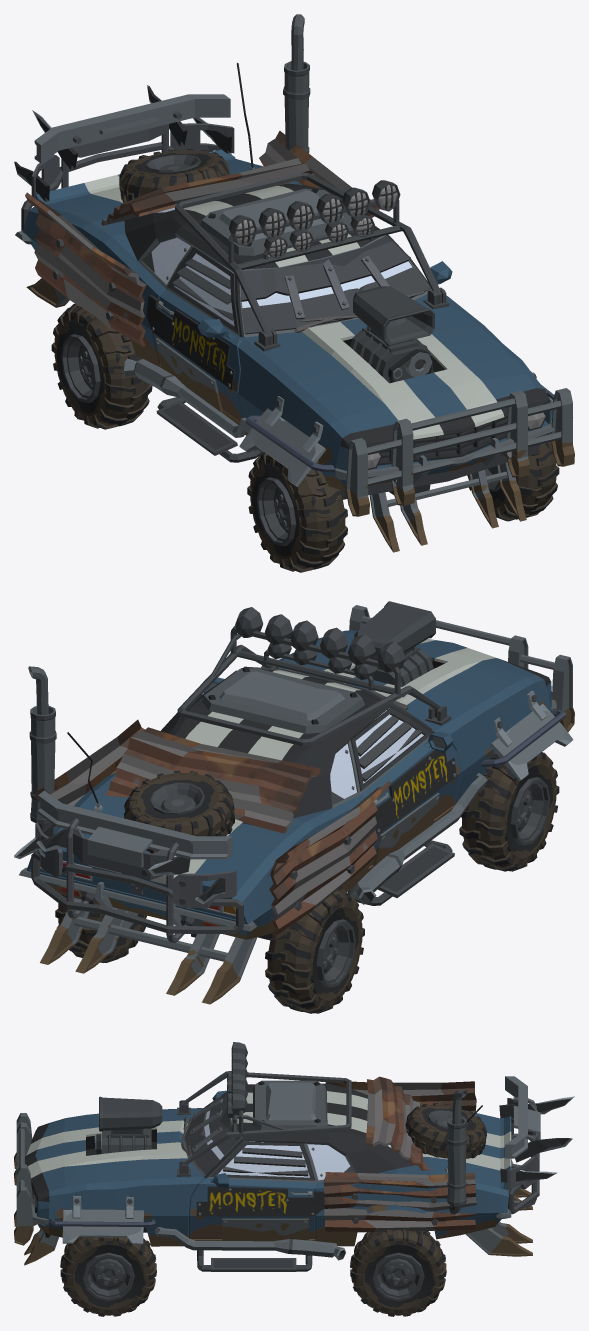
The model's file is car3.fbx.
The picture shows the model from 3 angles, top to bottom: view 1: azimuth 30°, elevation 25°; view 2: azimuth 150°, elevation 25°; view 3: azimuth 270°, elevation 25°; orthographic projection. The views are drawn at different scales.
Visible parts, largest first — view 1: SM_Veh_Muscle_01.002, SM_Veh_Muscle_Armour_01.002, SM_Veh_Muscle_Glass_Armour_01.002, SM_Veh_Attach_Bumper_07.001, SM_Veh_Muscle_Wheel_fr.002, SM_Veh_Muscle_Wheel_rr.002, SM_Veh_Attach_Plating_37.002, SM_Veh_Muscle_Block_01.002, SM_Veh_Attach_Lights_04.003, SM_Veh_Attach_Wheel_01.002, SM_Veh_Attach_Plating_37.001, SM_Veh_Muscle_Glass_01.002 (+5 smaller); view 2: SM_Veh_Muscle_01.002, SM_Veh_Muscle_Armour_01.002, SM_Veh_Attach_Bumper_07.001, SM_Veh_Attach_Plating_37.001, SM_Veh_Muscle_Wheel_rr.002, SM_Veh_Muscle_Wheel_fr.002, SM_Veh_Attach_Plating_37.002, SM_Veh_Attach_Plating_07.001, SM_Veh_Attach_Bumper_13.001, SM_Veh_Attach_Wheel_01.002, SM_Veh_Attach_Lights_04.003, SM_Veh_Muscle_Block_01.002 (+6 smaller); view 3: SM_Veh_Muscle_01.002, SM_Veh_Muscle_Armour_01.002, SM_Veh_Attach_Plating_37.003, SM_Veh_Muscle_Wheel_rl.002, SM_Veh_Muscle_Wheel_fl.002, SM_Veh_Attach_Bumper_07.001, SM_Veh_Muscle_Glass_Armour_01.002, SM_Veh_Attach_Plating_07.001, SM_Veh_Attach_Plating_37.001, SM_Veh_Muscle_Block_01.002, SM_Veh_Attach_Wheel_01.002, SM_Veh_Muscle_Glass_01.002 (+4 smaller).
Boxes of the visible parts, <box> form: SM_Veh_Muscle_01.002: <box>15,62,554,494</box>; SM_Veh_Muscle_Armour_01.002: <box>123,172,574,552</box>; SM_Veh_Muscle_Glass_Armour_01.002: <box>142,207,430,334</box>; SM_Veh_Attach_Bumper_07.001: <box>14,85,235,230</box>; SM_Veh_Muscle_Wheel_fr.002: <box>247,451,347,572</box>; SM_Veh_Muscle_Wheel_rr.002: <box>51,303,152,429</box>; SM_Veh_Attach_Plating_37.002: <box>25,192,146,346</box>; SM_Veh_Muscle_Block_01.002: <box>350,286,434,383</box>; SM_Veh_Attach_Lights_04.003: <box>228,180,400,263</box>; SM_Veh_Attach_Wheel_01.002: <box>119,149,230,202</box>; SM_Veh_Attach_Plating_37.001: <box>101,158,314,225</box>; SM_Veh_Muscle_Glass_01.002: <box>151,207,412,325</box>; SM_Veh_Muscle_01.002: <box>19,630,557,939</box>; SM_Veh_Muscle_Armour_01.002: <box>177,605,574,905</box>; SM_Veh_Attach_Bumper_07.001: <box>14,790,243,942</box>; SM_Veh_Attach_Plating_37.001: <box>105,727,320,833</box>; SM_Veh_Muscle_Wheel_rr.002: <box>265,888,364,1013</box>; SM_Veh_Muscle_Wheel_fr.002: <box>459,751,559,871</box>; SM_Veh_Attach_Plating_37.002: <box>269,781,390,935</box>; SM_Veh_Attach_Plating_07.001: <box>202,667,364,733</box>; SM_Veh_Attach_Bumper_13.001: <box>40,898,257,1004</box>; SM_Veh_Attach_Wheel_01.002: <box>124,770,234,853</box>; SM_Veh_Attach_Lights_04.003: <box>230,607,405,695</box>; SM_Veh_Muscle_Block_01.002: <box>354,601,435,686</box>; SM_Veh_Muscle_01.002: <box>25,1083,512,1246</box>; SM_Veh_Muscle_Armour_01.002: <box>14,1071,351,1271</box>; SM_Veh_Attach_Plating_37.003: <box>323,1172,476,1231</box>; SM_Veh_Muscle_Wheel_rl.002: <box>350,1229,446,1316</box>; SM_Veh_Muscle_Wheel_fl.002: <box>60,1237,156,1316</box>; SM_Veh_Attach_Bumper_07.001: <box>499,1076,574,1214</box>; SM_Veh_Muscle_Glass_Armour_01.002: <box>184,1092,353,1180</box>; SM_Veh_Attach_Plating_07.001: <box>253,1080,327,1130</box>; SM_Veh_Attach_Plating_37.001: <box>365,1076,429,1170</box>; SM_Veh_Muscle_Block_01.002: <box>94,1096,162,1154</box>; SM_Veh_Attach_Wheel_01.002: <box>405,1103,487,1158</box>; SM_Veh_Muscle_Glass_01.002: <box>204,1110,391,1180</box>.
Size of the model in its own units: 276 by 295 by 640.
